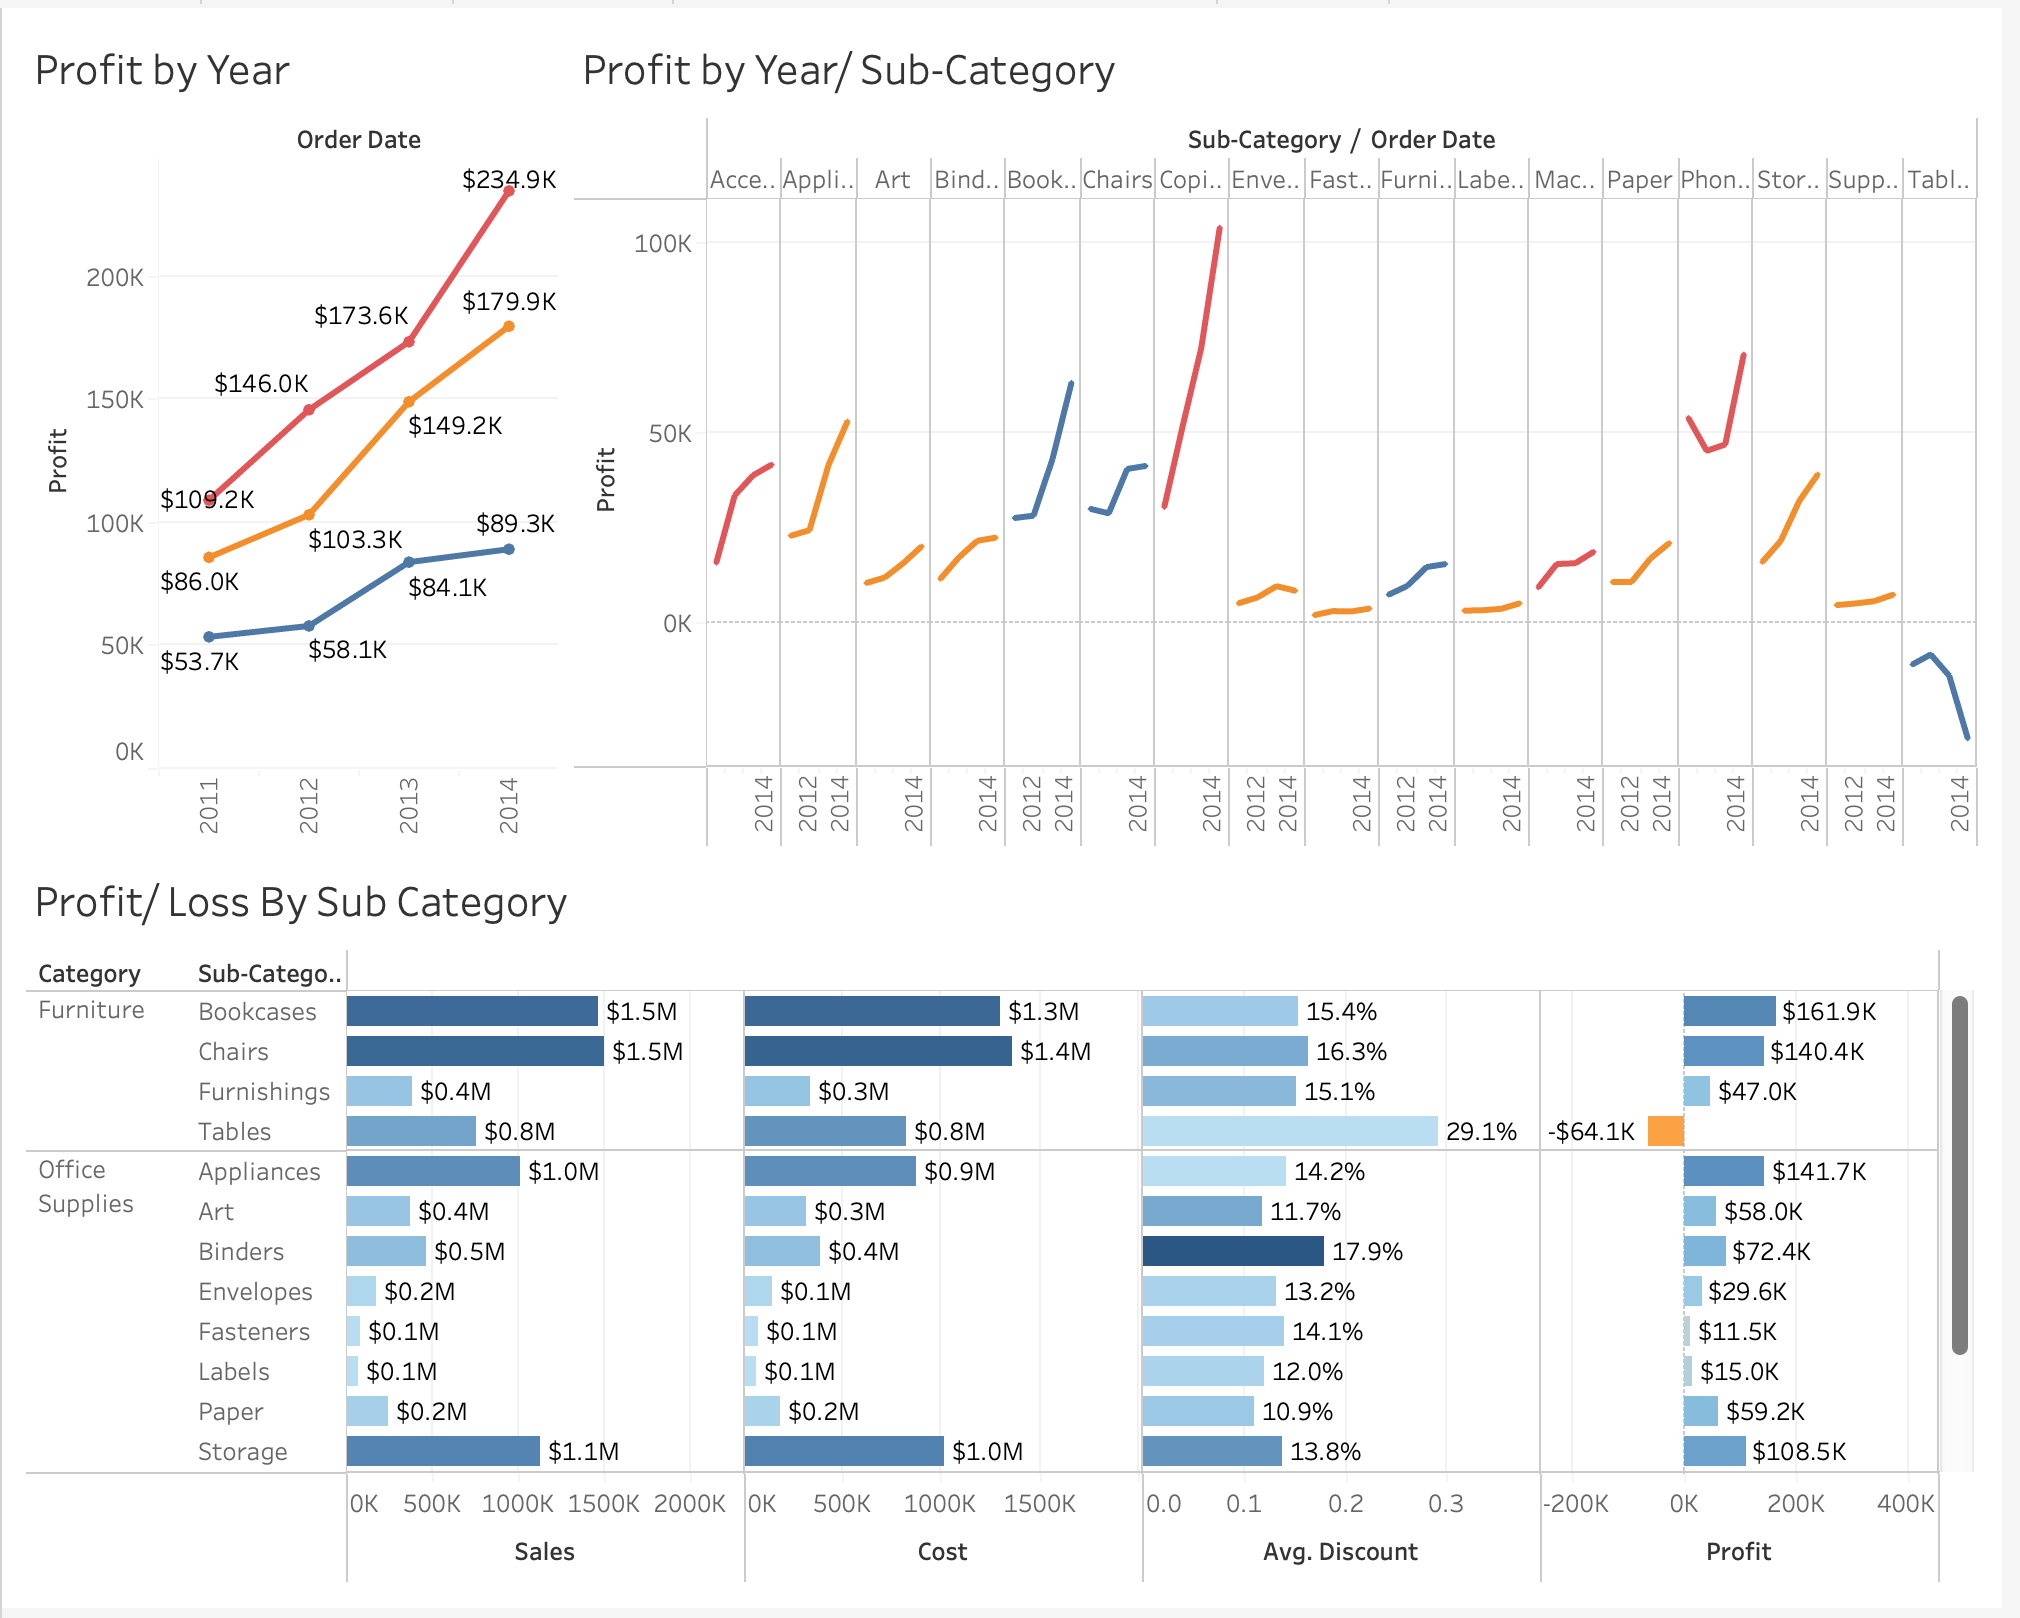

The dashboard page shown, as its layout file describes it:
{"tool":"tableau","page":{"name":"Profit/ Loss Dashboard","canvas":[1000,800],"ordinal":2},"visuals":[{"type":"worksheet","title":"Profit by Year","mark":"Automatic","rows":["Profit"],"cols":["Order Date"],"box":[8,8,274,416]},{"type":"worksheet","title":"Profit by Year/ Sub-Category","mark":"Automatic","rows":["Profit"],"cols":["Sub-Category","Order Date"],"box":[282,8,710,416]},{"type":"worksheet","title":"Profit/ Loss By Sub Category","mark":"Automatic","rows":["Category","Sub-Category"],"cols":["Sales","Calculation_2578733066630389760","Discount","Profit"],"box":[8,424,984,368]}]}

Visuals, with their boxes in screenshot pixels (x1, y1, x2, y2), scaled from the page's 1000x800 canvas onto the 2020x1618 screenshot:
"Profit by Year" worksheet: 16, 16, 570, 858
"Profit by Year/ Sub-Category" worksheet: 570, 16, 2004, 858
"Profit/ Loss By Sub Category" worksheet: 16, 858, 2004, 1602
